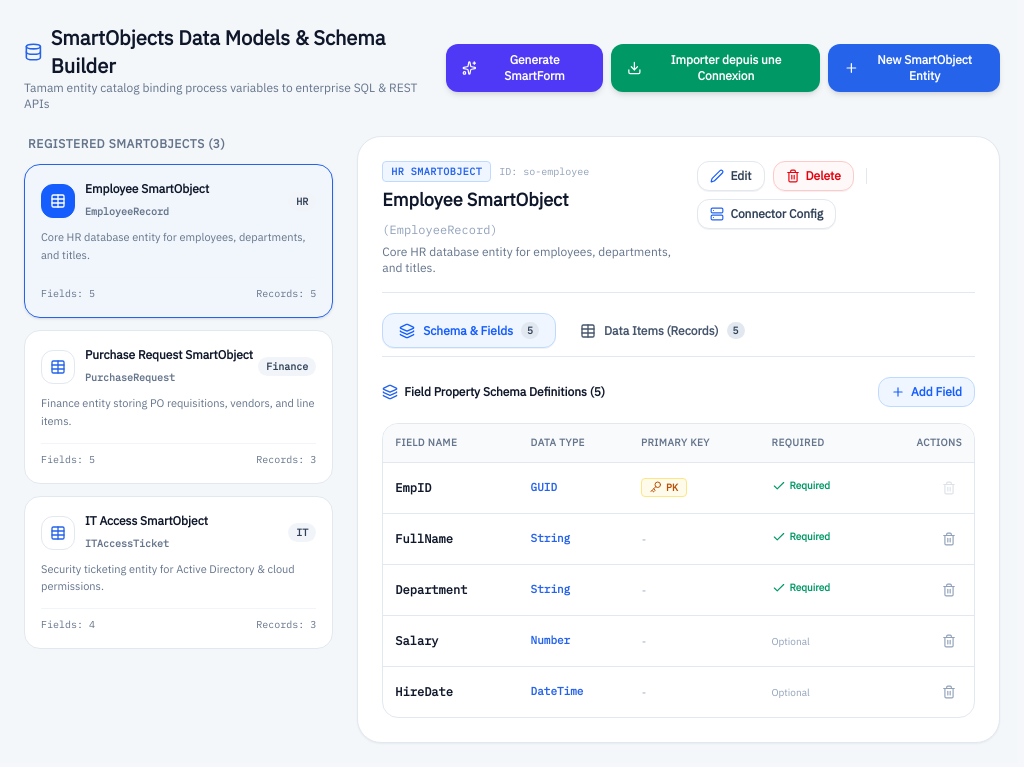
SmartObjects Entity & Data Items CRUD › opens New SmartObject Entity modal and creates an entity
This screenshot has width=1024, height=767.
Click the button with test id "create-smartobject-btn" at point(914, 68), box [828, 44, 1000, 92]
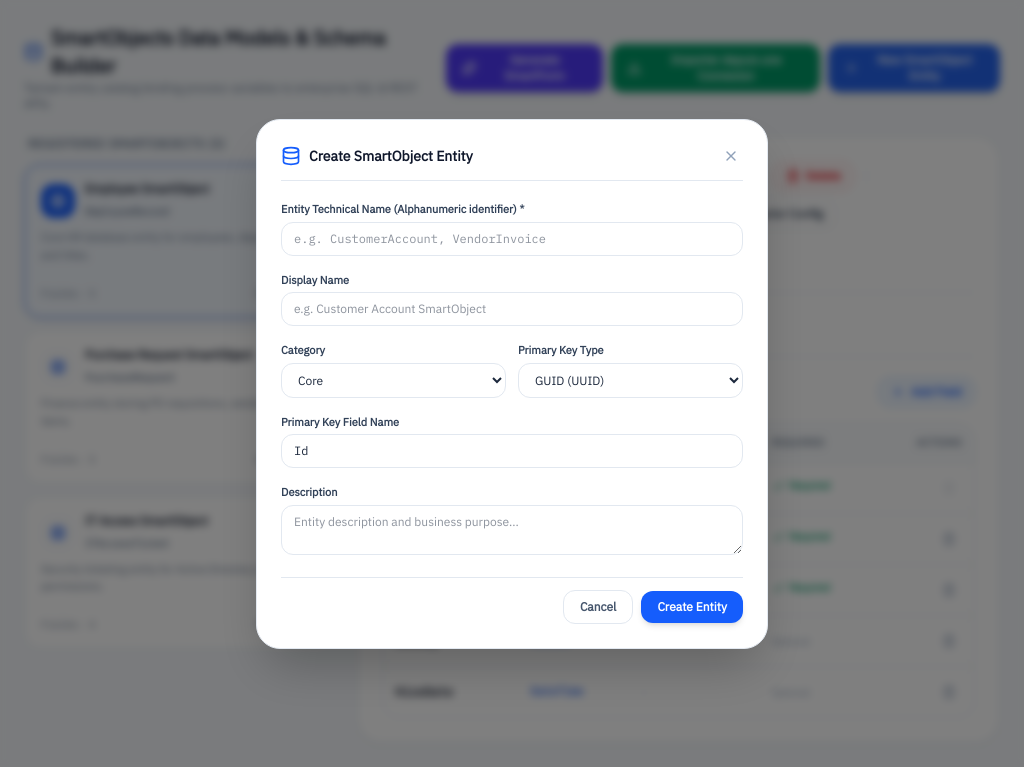
Type "AssetInventory" into the field with test id "new-entity-name-input" at point(512, 239), box [281, 222, 743, 256]
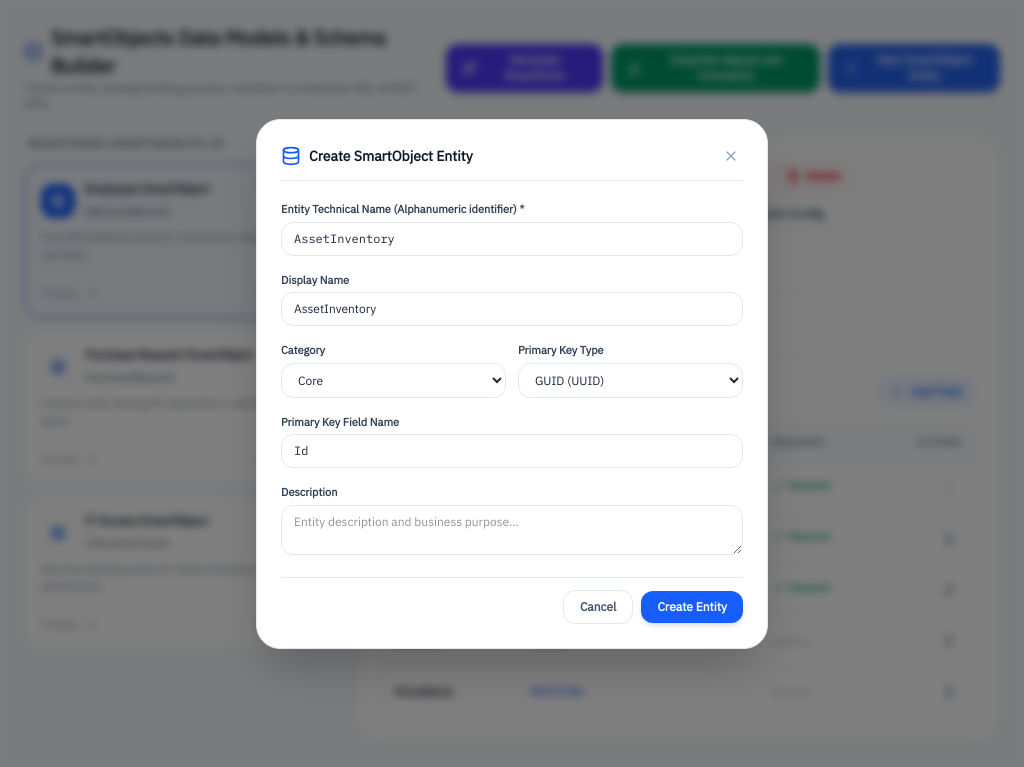
Click the button with test id "submit-create-entity-btn" at point(692, 607), box [641, 591, 743, 623]
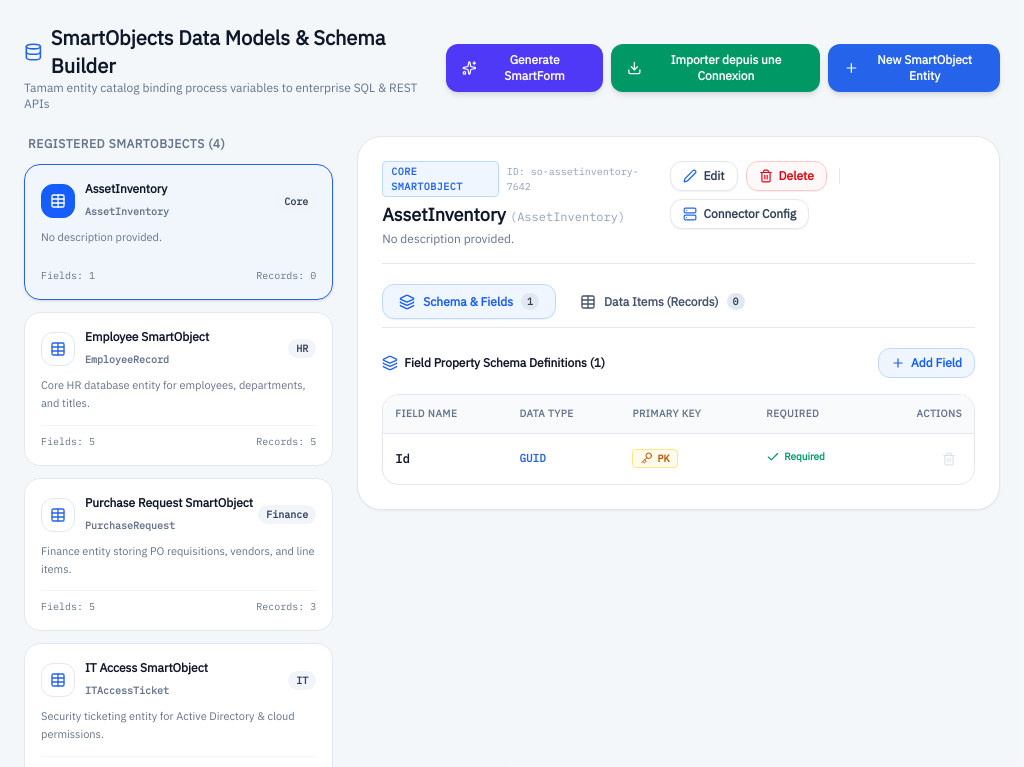
expect the heading "AssetInventory" is shown: met, box [85, 181, 169, 197]
